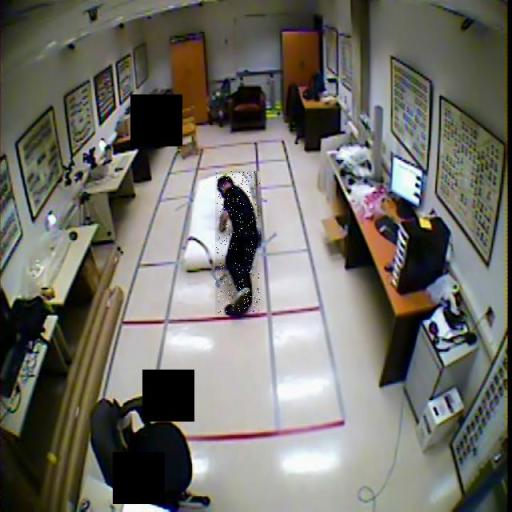Fall: (216, 172, 261, 316)
